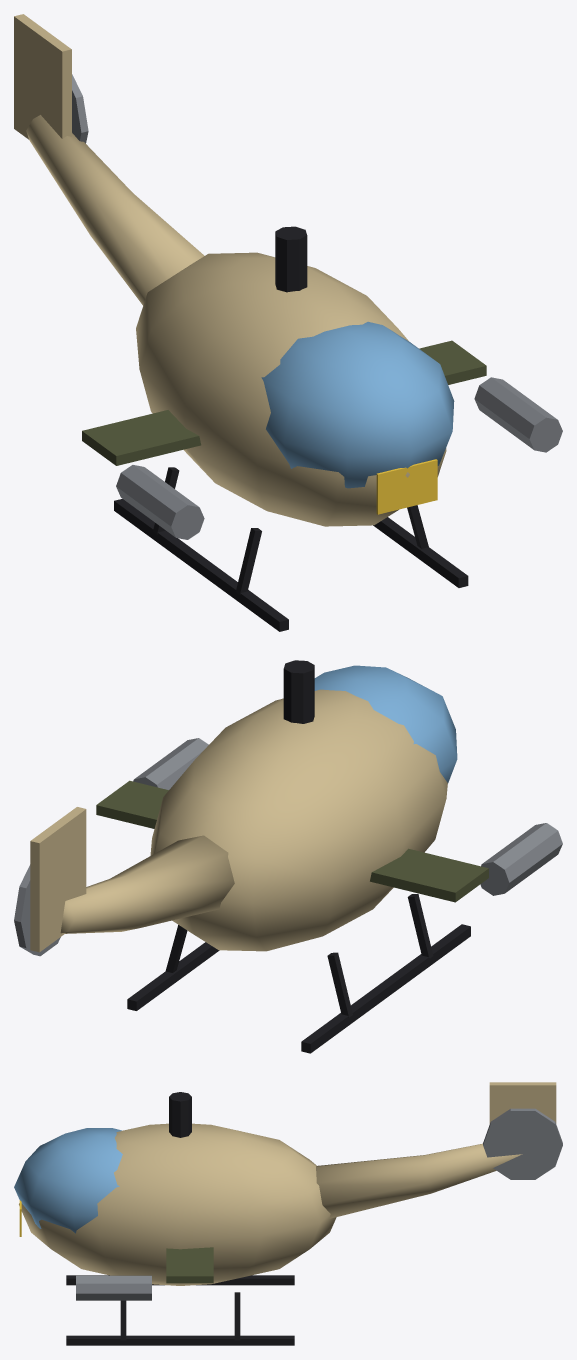
Rendered from e_heli.glb.
3 views of the same model, one above another, from view 1: azimuth 30°, elevation 25°; view 2: azimuth 150°, elevation 25°; view 3: azimuth 270°, elevation 25° (orthographic). The views are drawn at different scales.
Visible parts, largest first — view 1: heli; view 2: heli; view 3: heli.
Boxes of the visible parts, x1=… form: heli: x1=14, y1=14, x2=562, y2=631; heli: x1=14, y1=660, x2=562, y2=1053; heli: x1=14, y1=1082, x2=562, y2=1345.
Bounding box in the file's own units: 3.28 × 2.67 × 5.77.
